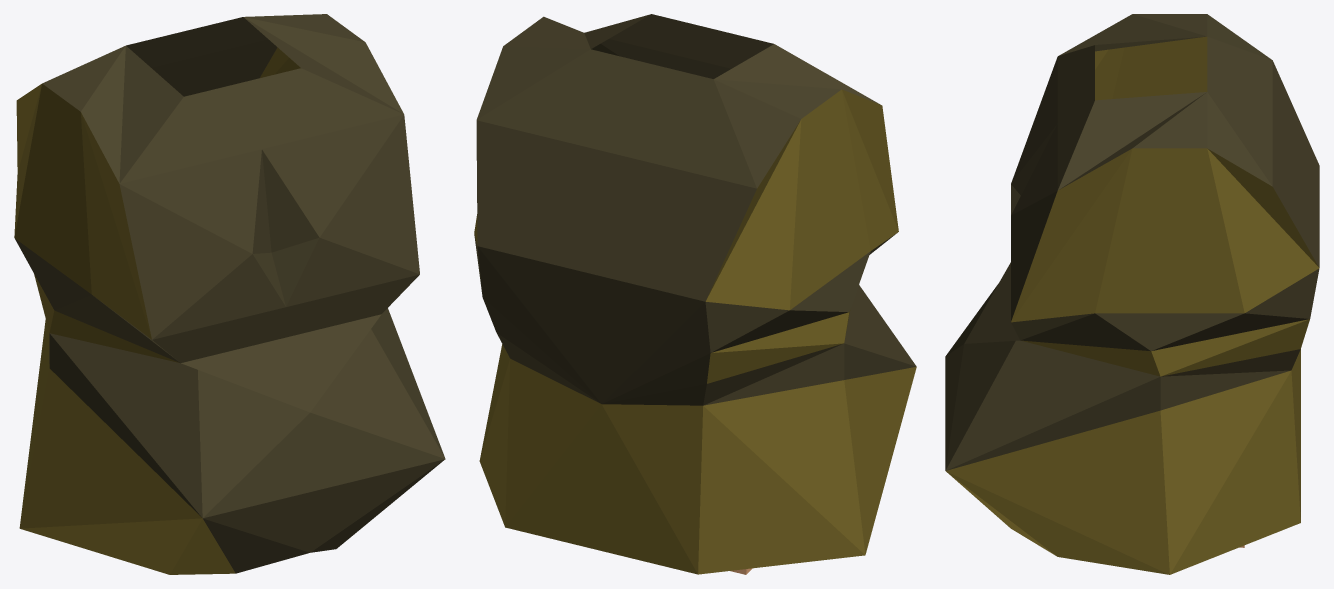
The model's file is model_291_npc.obj.
3 renders of one model, left to right at view 1: azimuth 30°, elevation 25°; view 2: azimuth 150°, elevation 25°; view 3: azimuth 270°, elevation 25°, orthographic. The views are drawn at different scales.
Parts seen in each view (by area): view 1: 291; view 2: 291; view 3: 291.
Part boxes in pixels (<box>): 291: <box>14,14,445,574</box>; 291: <box>474,14,916,574</box>; 291: <box>945,14,1319,574</box>.
Size of the model in its own units: 44 by 53 by 40.
